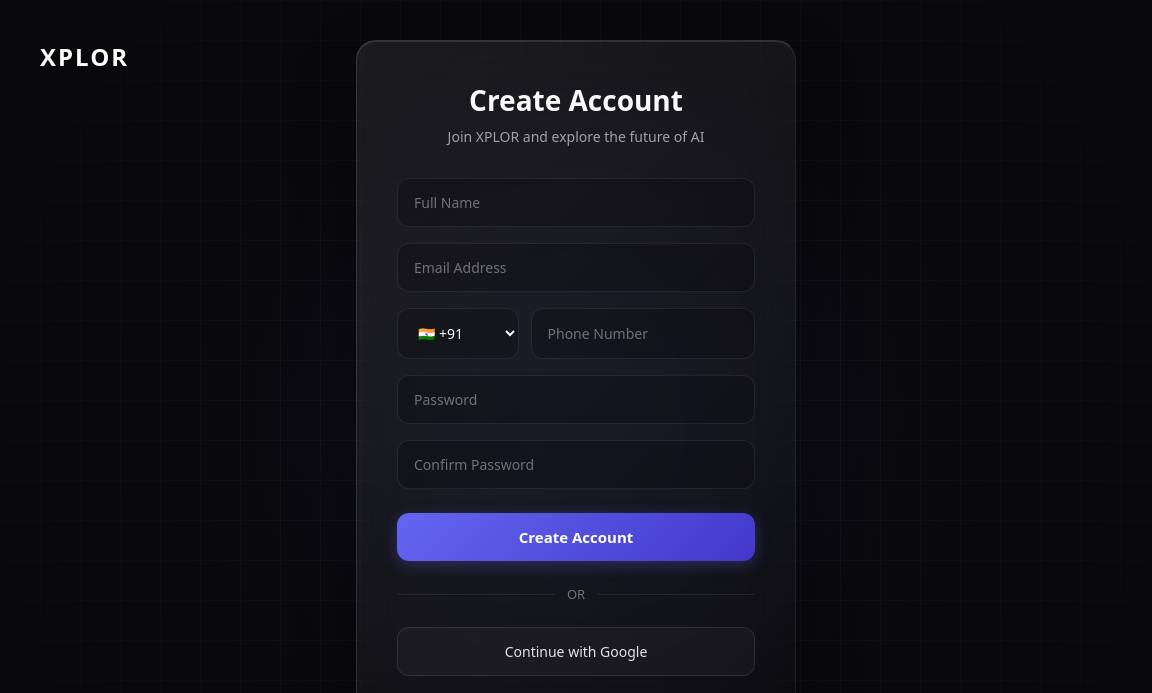
Test: Signup › mismatched passwords are caught
Type "Ada Lovelace" into the field with placeholder "Full Name" at point(576, 202), box [397,178,755,227]
Type "ada@example.test" into the field with placeholder "Email Address" at point(576, 268), box [397,243,755,292]
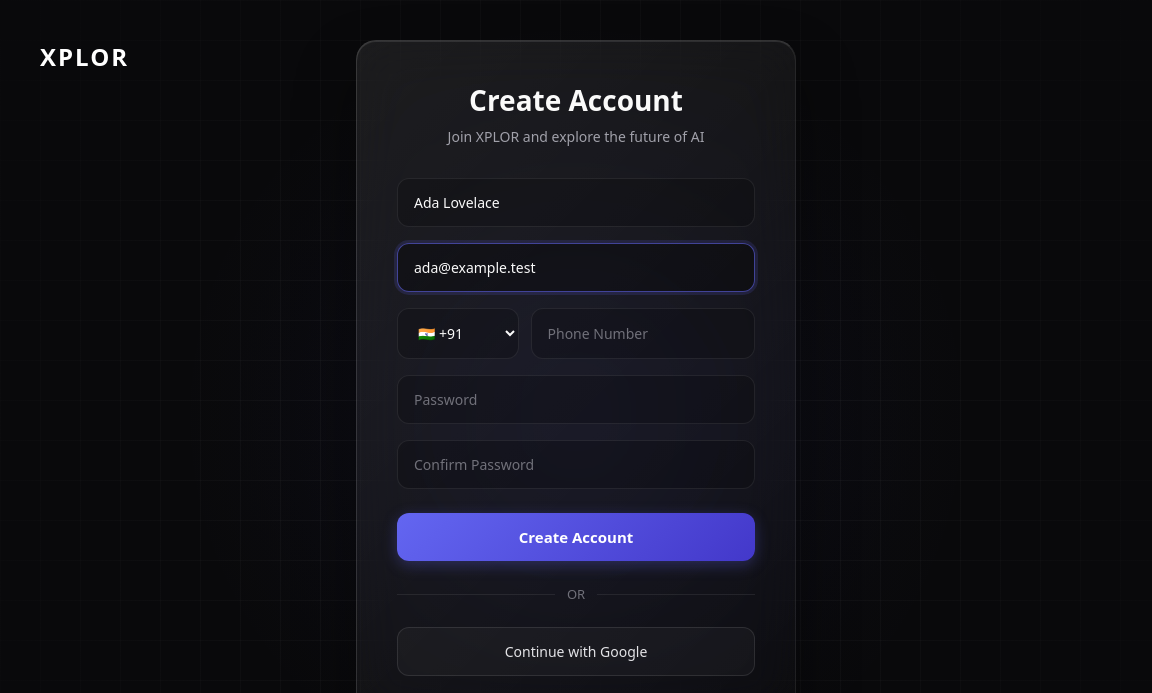
Select "🇬🇧 +44" in the dropdown at point(458, 334), box [397,308,518,359]
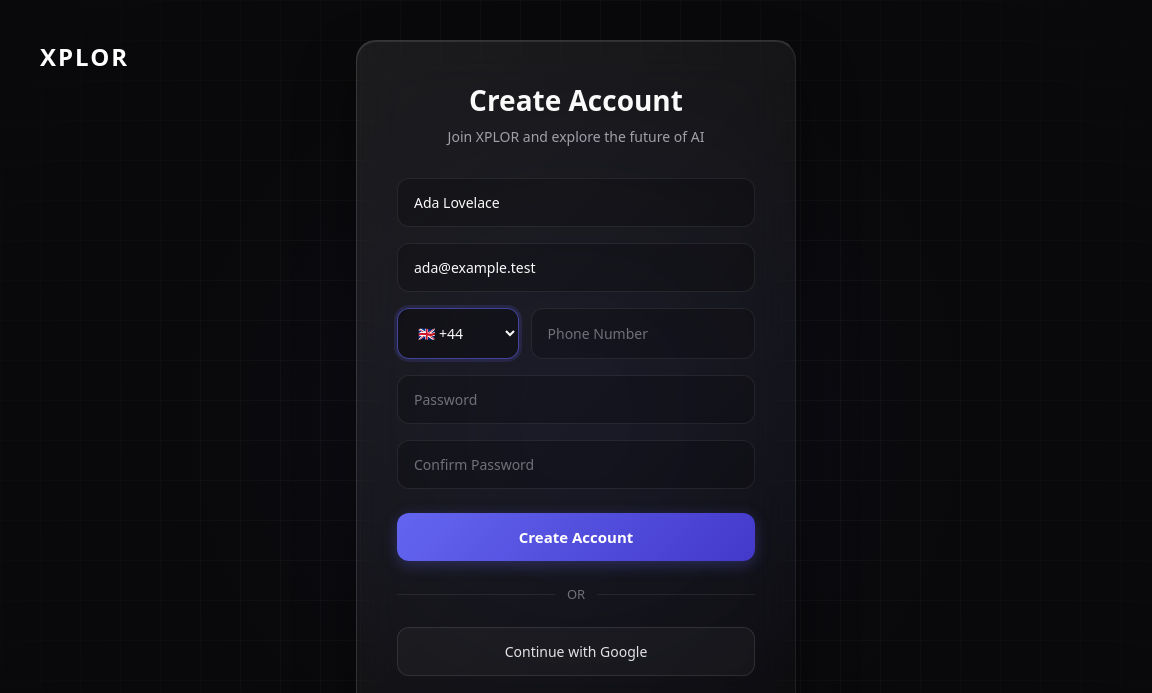
Type "7700900000" into the field with placeholder "Phone Number" at point(643, 334), box [530,308,755,359]
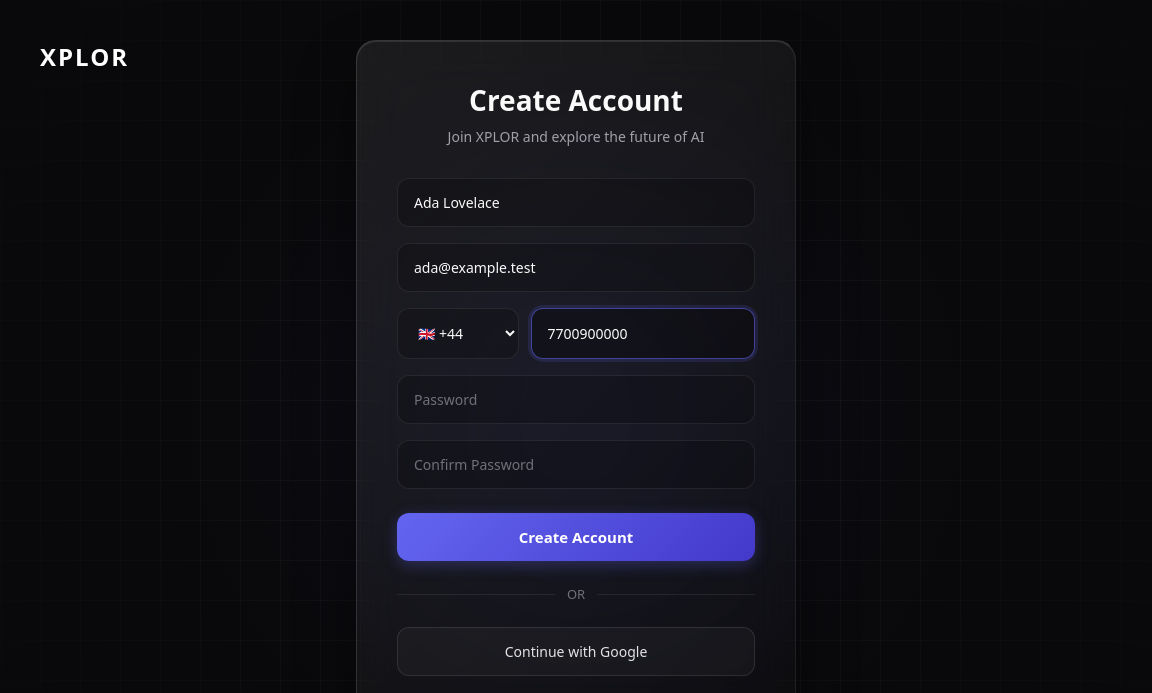
Type "Testing123" into the password field with placeholder "Password" at point(576, 400), box [397,375,755,424]
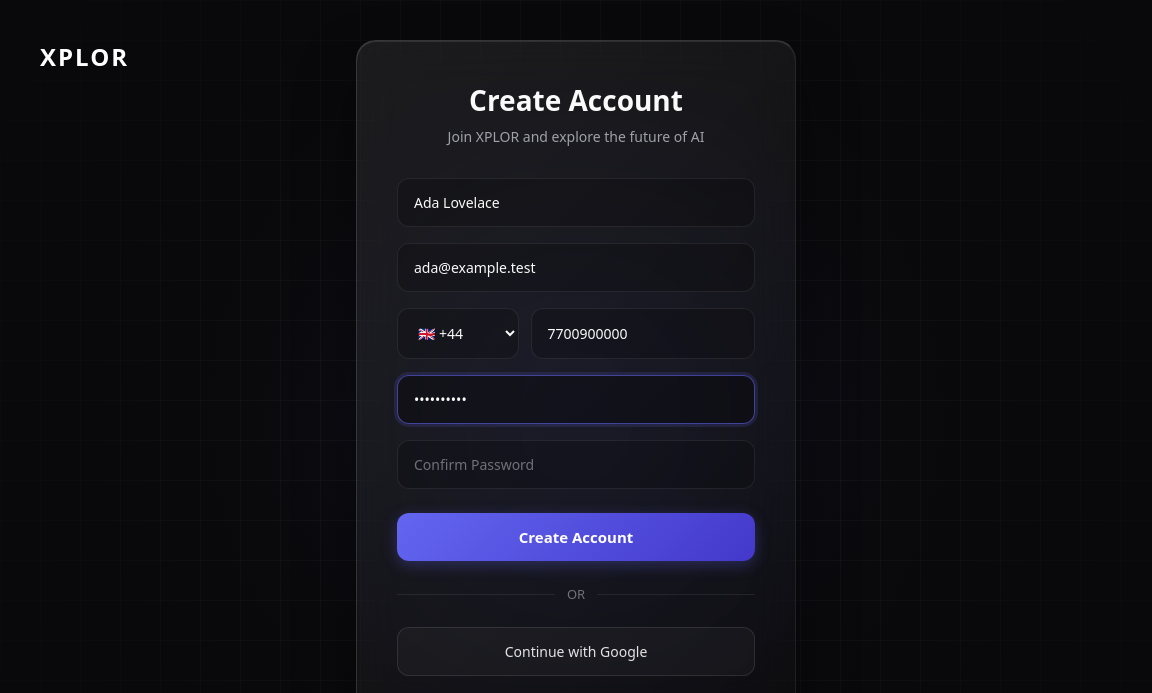
Type "Testing124" into the password field with placeholder "Confirm Password" at point(576, 464), box [397,440,755,489]
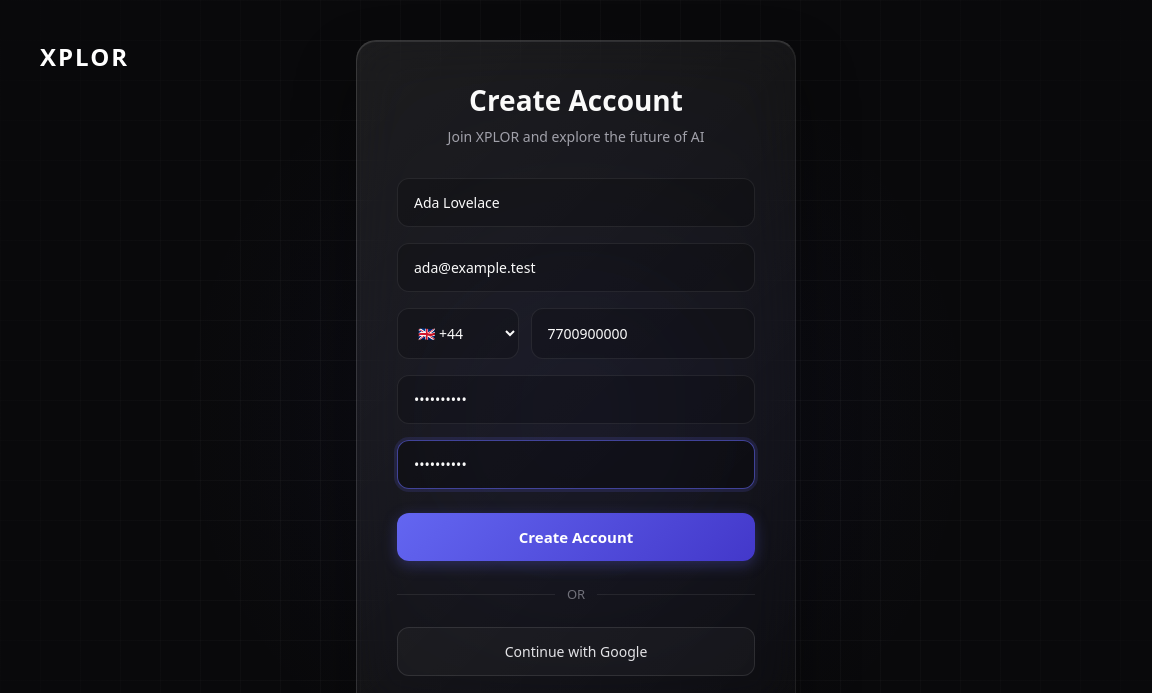
Click the button "Create Account" at point(576, 537), box [397,513,755,561]
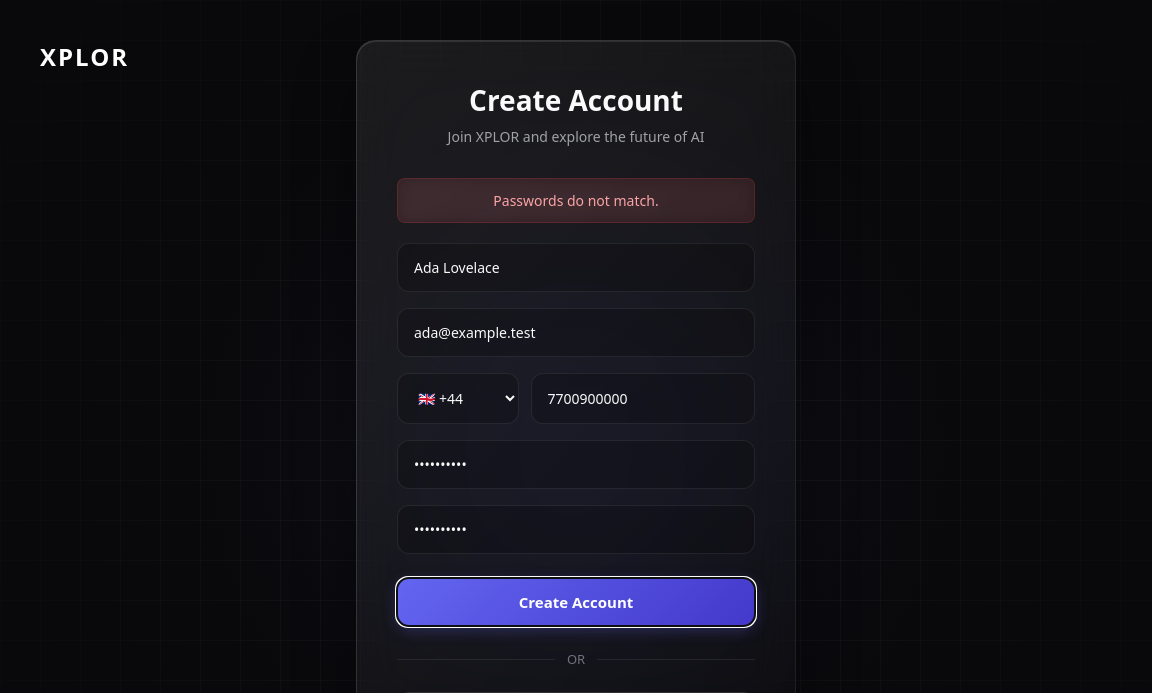
Expected: the message reads "Passwords do not match.", [493,191,659,210]
